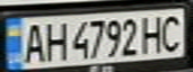2: (121, 15, 142, 56)
4: (69, 17, 90, 60)
7: (87, 17, 106, 60)
9: (103, 16, 124, 57)
A: (18, 20, 48, 64)
C: (157, 11, 187, 53)
H: (39, 19, 69, 62), (139, 12, 169, 54)
